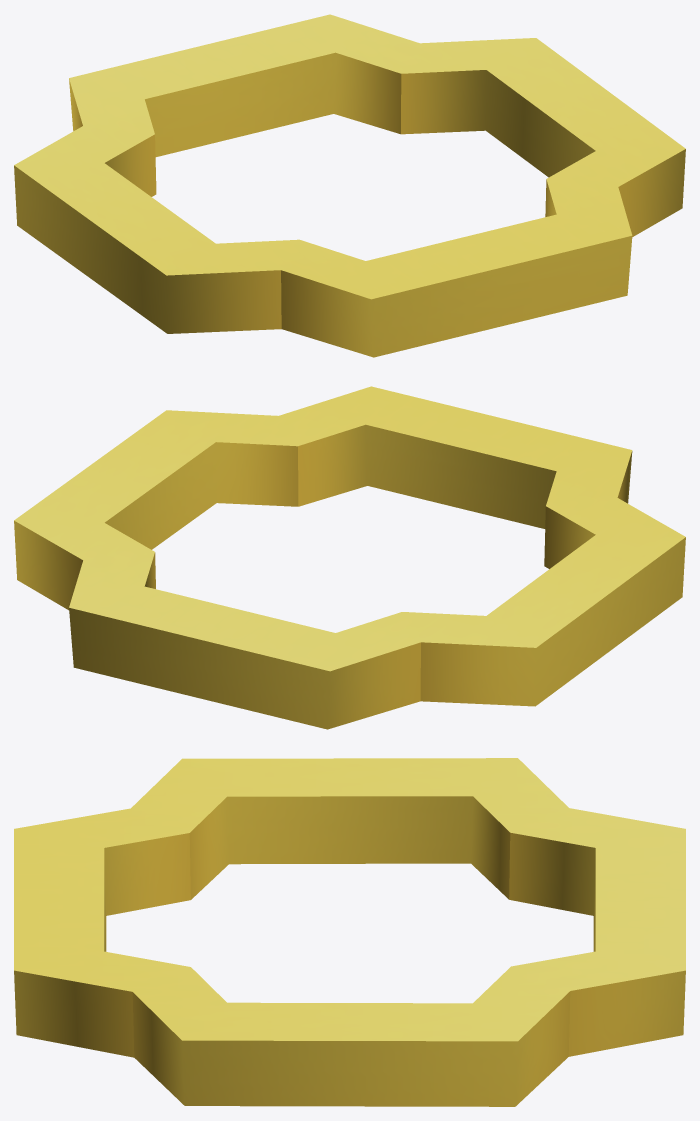
File: paprika_yellow_slice.fbx
3 views of the same model, one above another, from view 1: azimuth 30°, elevation 25°; view 2: azimuth 150°, elevation 25°; view 3: azimuth 270°, elevation 25° (orthographic). The views are drawn at different scales.
Visible parts, largest first — view 1: paprika_yellow_slice; view 2: paprika_yellow_slice; view 3: paprika_yellow_slice.
Boxes of the visible parts, bbox=[...] form: paprika_yellow_slice: bbox=[14, 14, 685, 357]; paprika_yellow_slice: bbox=[14, 386, 685, 729]; paprika_yellow_slice: bbox=[14, 758, 685, 1106].
Size of the model in its own units: 22.67 by 2.49 by 22.73.
